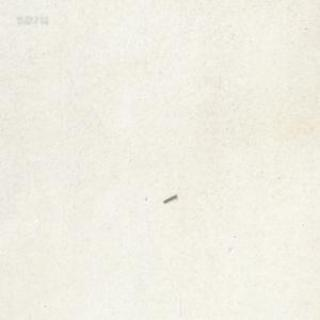Bolttrack_idkeyframe: (161, 192, 176, 202)
